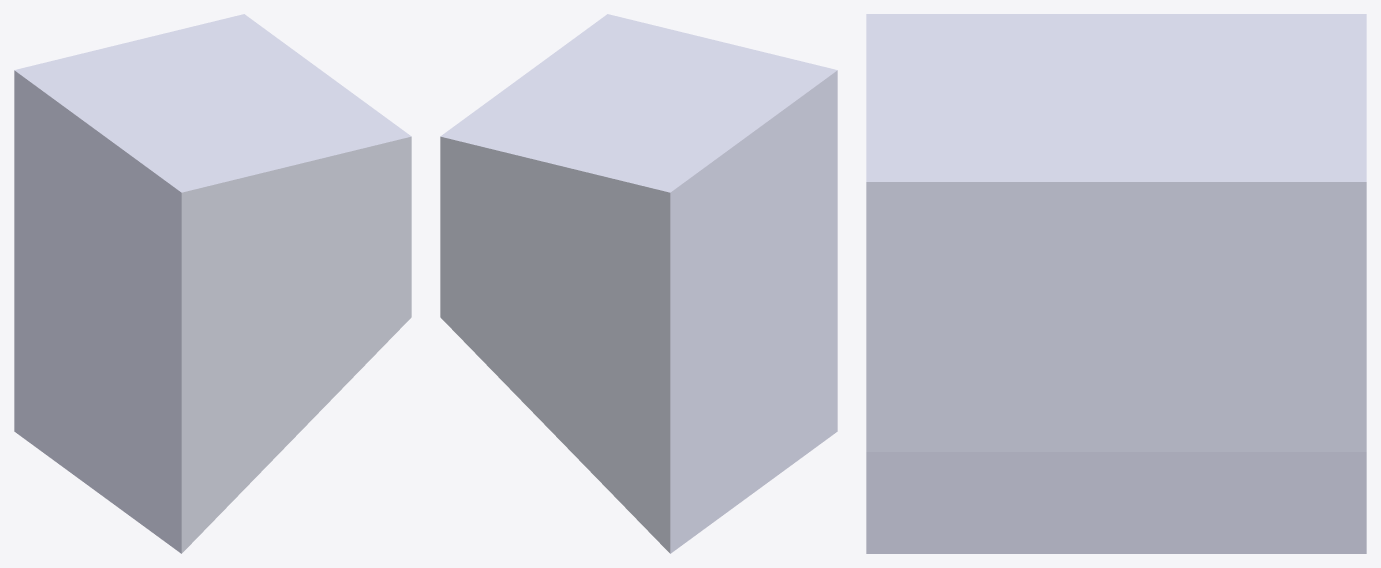
File: symbol,_DeltaBlock_Grey.glb
3 views of the same model, side by side, from view 1: azimuth 30°, elevation 25°; view 2: azimuth 150°, elevation 25°; view 3: azimuth 270°, elevation 25° (orthographic). The views are drawn at different scales.
Visible parts, largest first — view 1: ,_DeltaBlock_Grey; view 2: ,_DeltaBlock_Grey; view 3: ,_DeltaBlock_Grey.
Part boxes in pixels (bbox=[...]): ,_DeltaBlock_Grey: bbox=[14, 14, 411, 553]; ,_DeltaBlock_Grey: bbox=[440, 14, 837, 553]; ,_DeltaBlock_Grey: bbox=[866, 14, 1366, 553].
Size of what is drawn, in the model's own units: 0.0357 by 0.0536 by 0.045.
2 materials, 2 textured.
